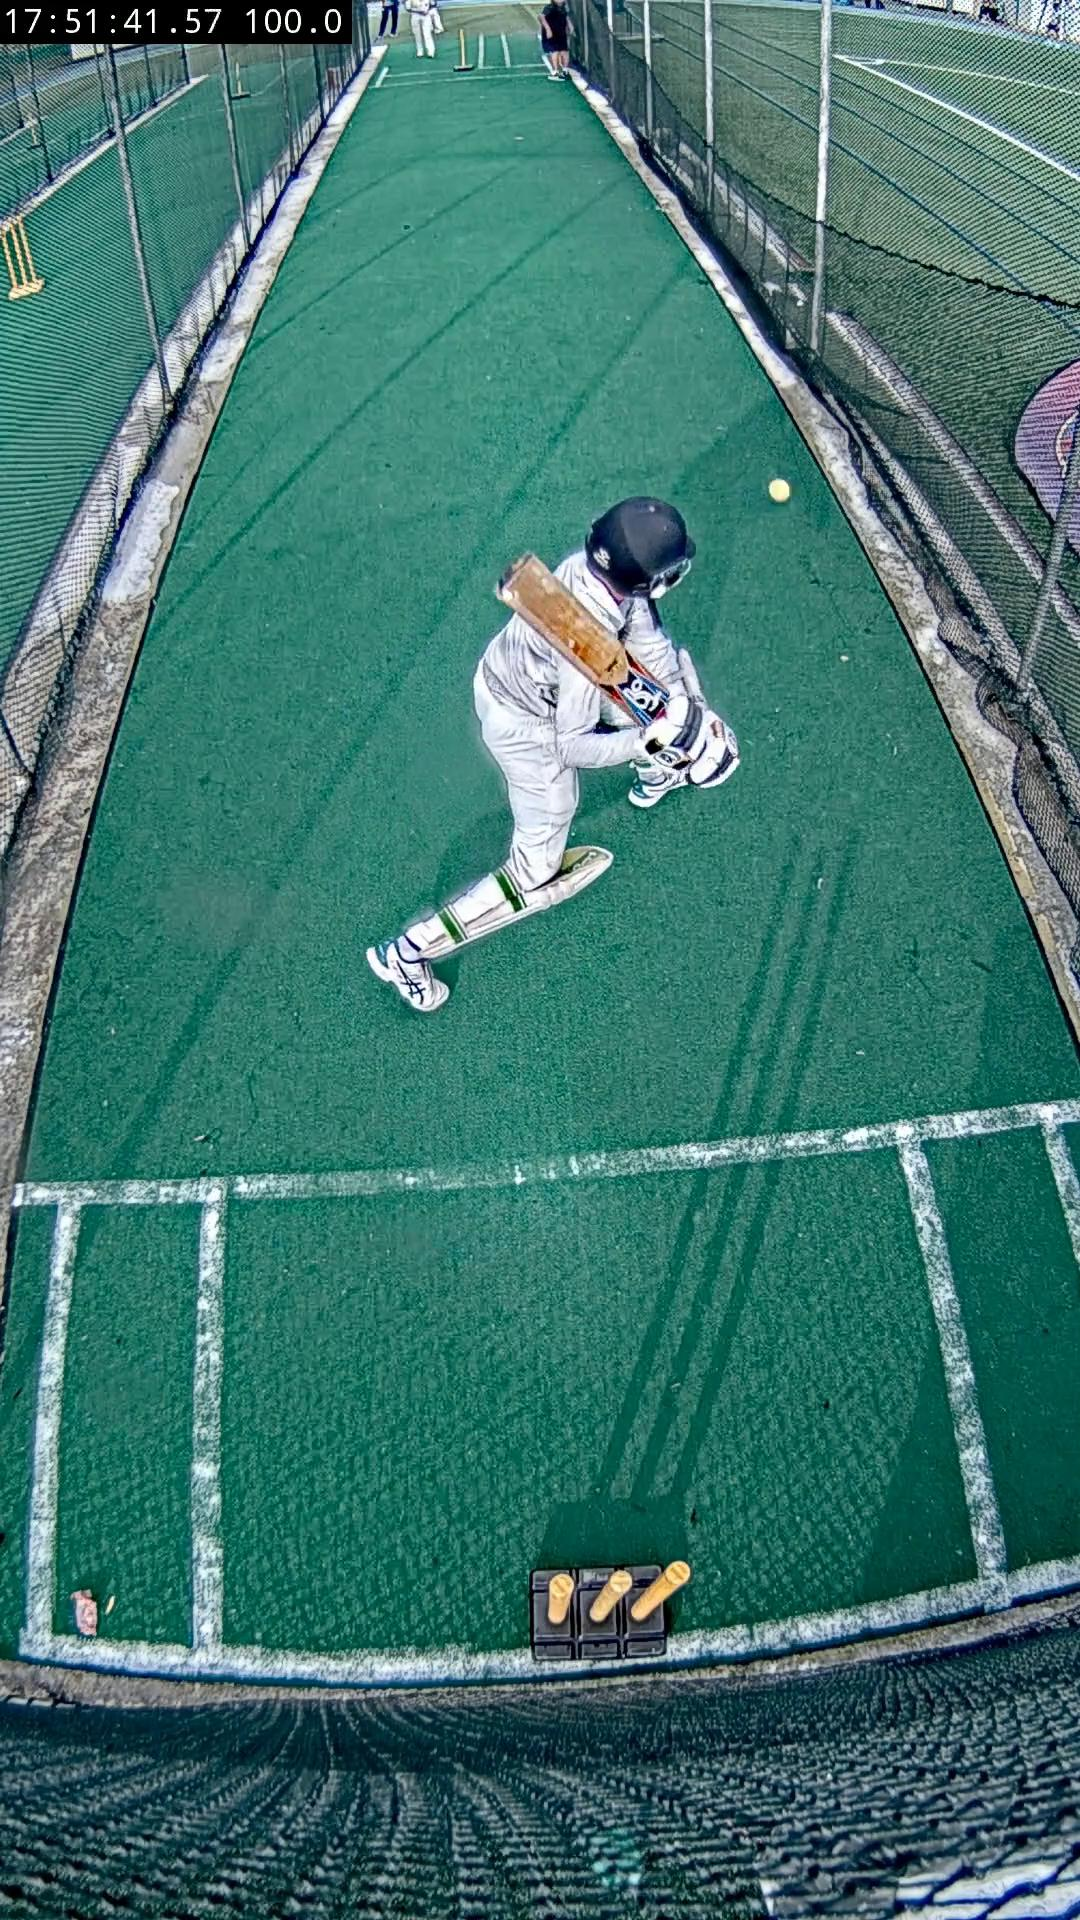ball: (769, 480, 791, 502)
bat: (495, 551, 671, 728)
gloves: (641, 694, 738, 787)
helmet: (585, 495, 694, 599)
pads: (423, 848, 615, 960)
stumps: (529, 1560, 690, 1662)
